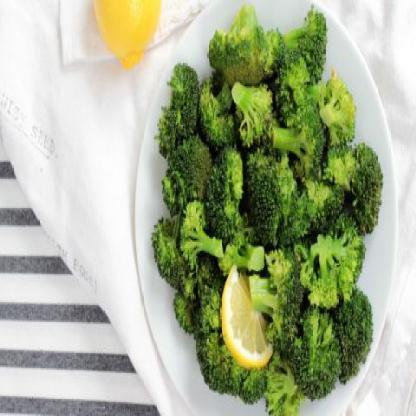broccoli: (151, 1, 385, 414)
